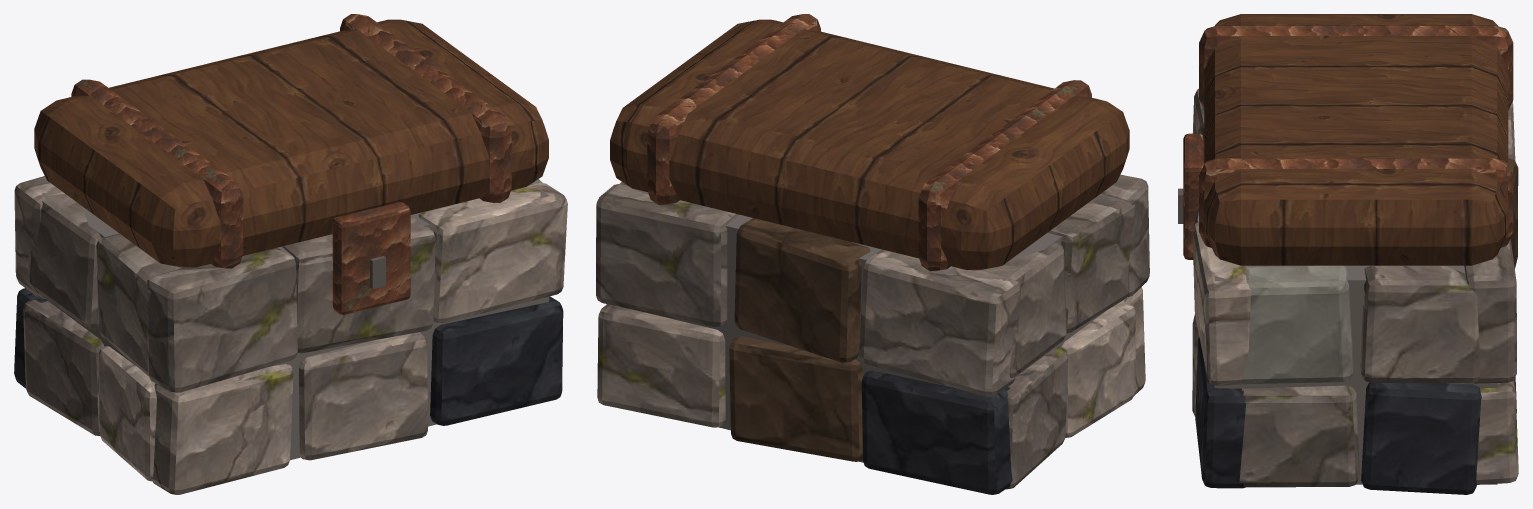
File: stone_chest.glb
The picture shows the model from 3 angles, left to right: view 1: azimuth 30°, elevation 25°; view 2: azimuth 150°, elevation 25°; view 3: azimuth 270°, elevation 25°; orthographic projection.
Visible parts, largest first — view 1: model; view 2: model; view 3: model.
Part boxes in pixels (x1,y1,x2,y2): model: [14, 14, 567, 494]; model: [596, 14, 1149, 494]; model: [1178, 14, 1518, 494].
Bounding box in the file's own units: 0.928 × 0.6459 × 0.6503.
Materials: 10 (8 with a texture image).
